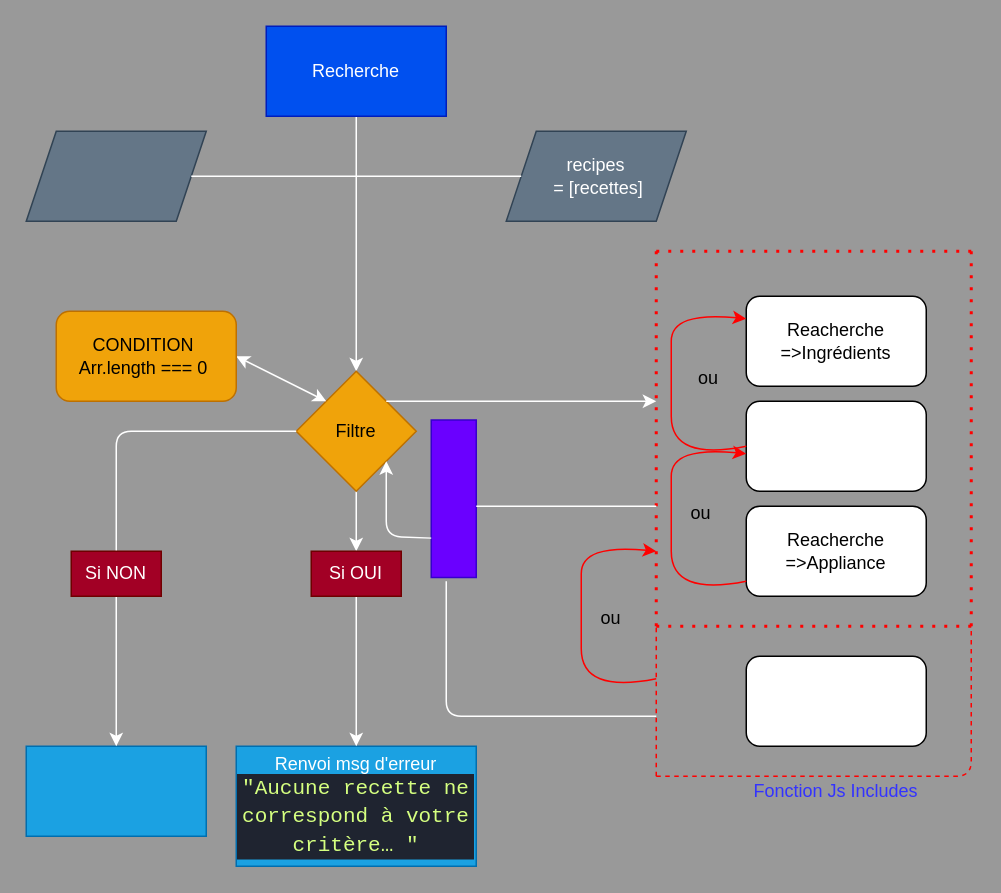
This 1001x893 diagram has some shape labels left out. The box of each missing label's shape, as (x1, y1, x2, y2) in pixels:
Arr.push(recipe): (430, 418, 476, 578)
Arr=[ ]: (25, 130, 206, 221)
Reacherche =>Ustensils: (745, 400, 926, 491)
Recherche =>Name =>ingredient =>description: (745, 655, 926, 746)
Renvoi liste recette dans le DOM: (25, 745, 206, 836)
